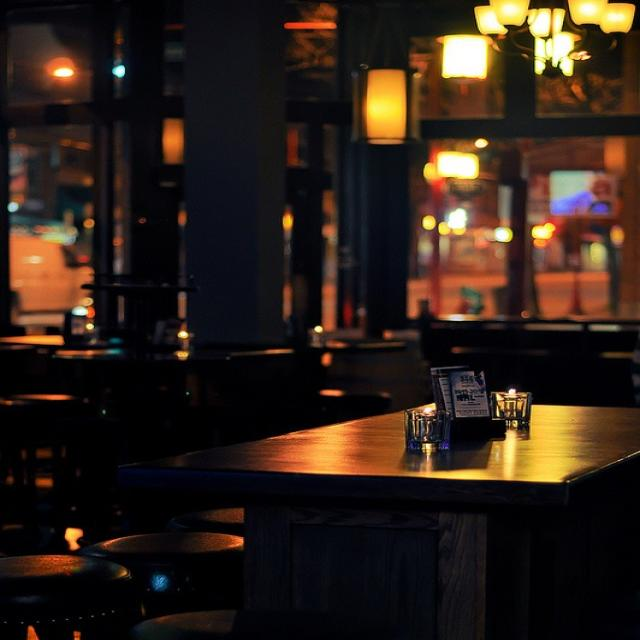Cup: (397, 396, 465, 463), (482, 380, 549, 447)
Table: (171, 361, 640, 628)
chair: (104, 481, 262, 601), (0, 498, 148, 621)
